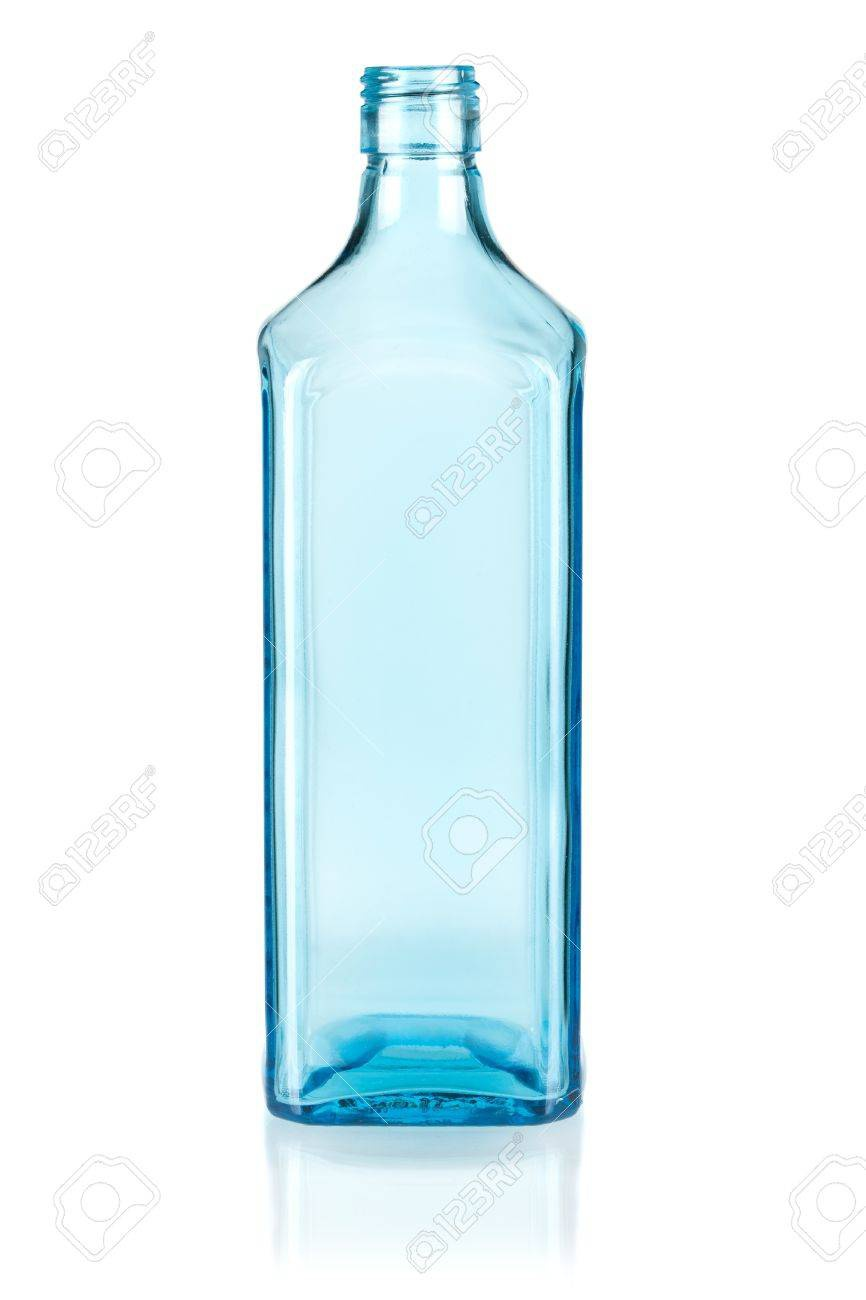emptybottle: (264, 67, 581, 1127)
